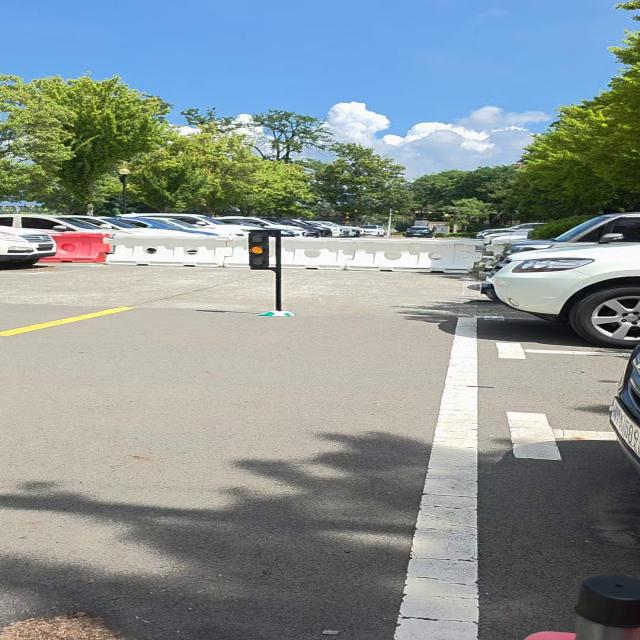yellow: (247, 232, 270, 268)
